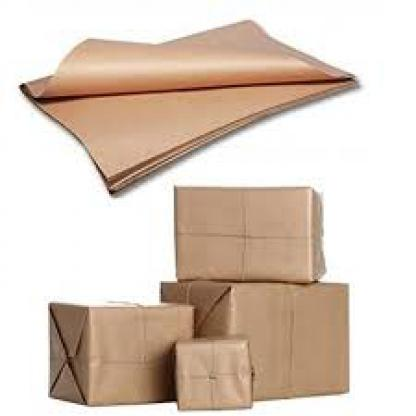paquete: (155, 266, 355, 400), (168, 177, 335, 296), (39, 294, 205, 412), (170, 329, 264, 411)
